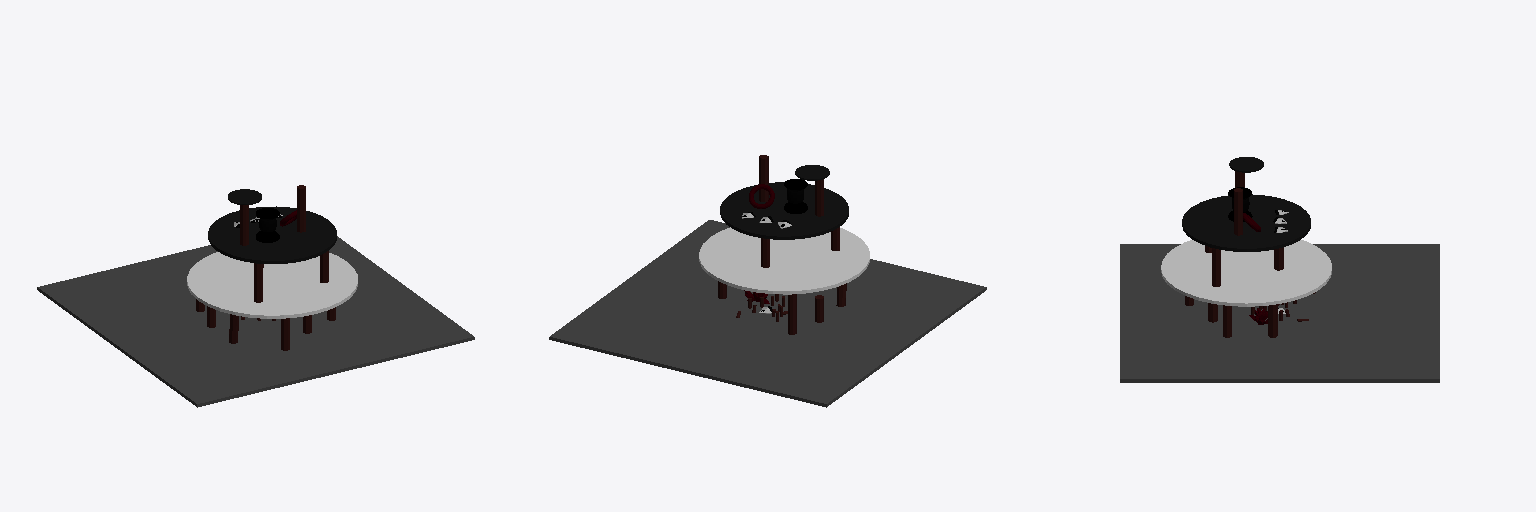
The model's file is scene_eval_1.obj.
3 views of the same model, side by side, from view 1: azimuth 30°, elevation 25°; view 2: azimuth 150°, elevation 25°; view 3: azimuth 270°, elevation 25° (orthographic).
Visible parts, largest first — view 1: Cube, Cylinder.020, Cylinder.023; view 2: Cube, Cylinder.020, Cylinder.023; view 3: Cube, Cylinder.020, Cylinder.023.
Boxes of the visible parts, x1,y1,x2,y2 form: Cube: [37, 236, 474, 407]; Cylinder.020: [187, 252, 357, 318]; Cylinder.023: [208, 206, 336, 263]; Cube: [549, 220, 986, 407]; Cylinder.020: [699, 227, 869, 294]; Cylinder.023: [720, 182, 848, 239]; Cube: [1120, 244, 1439, 382]; Cylinder.020: [1161, 240, 1331, 306]; Cylinder.023: [1182, 194, 1310, 251].
Size of the model in its own units: 176 by 95.16 by 176.